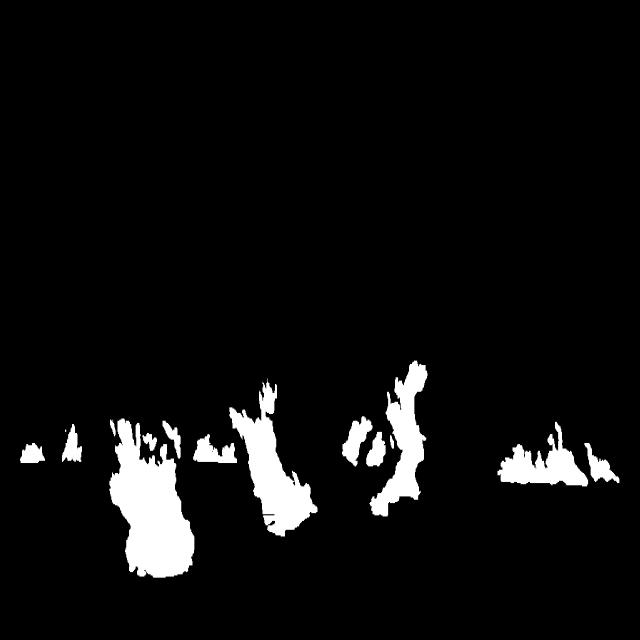fire: (238, 366, 458, 537), (19, 413, 226, 589), (488, 384, 640, 513)
